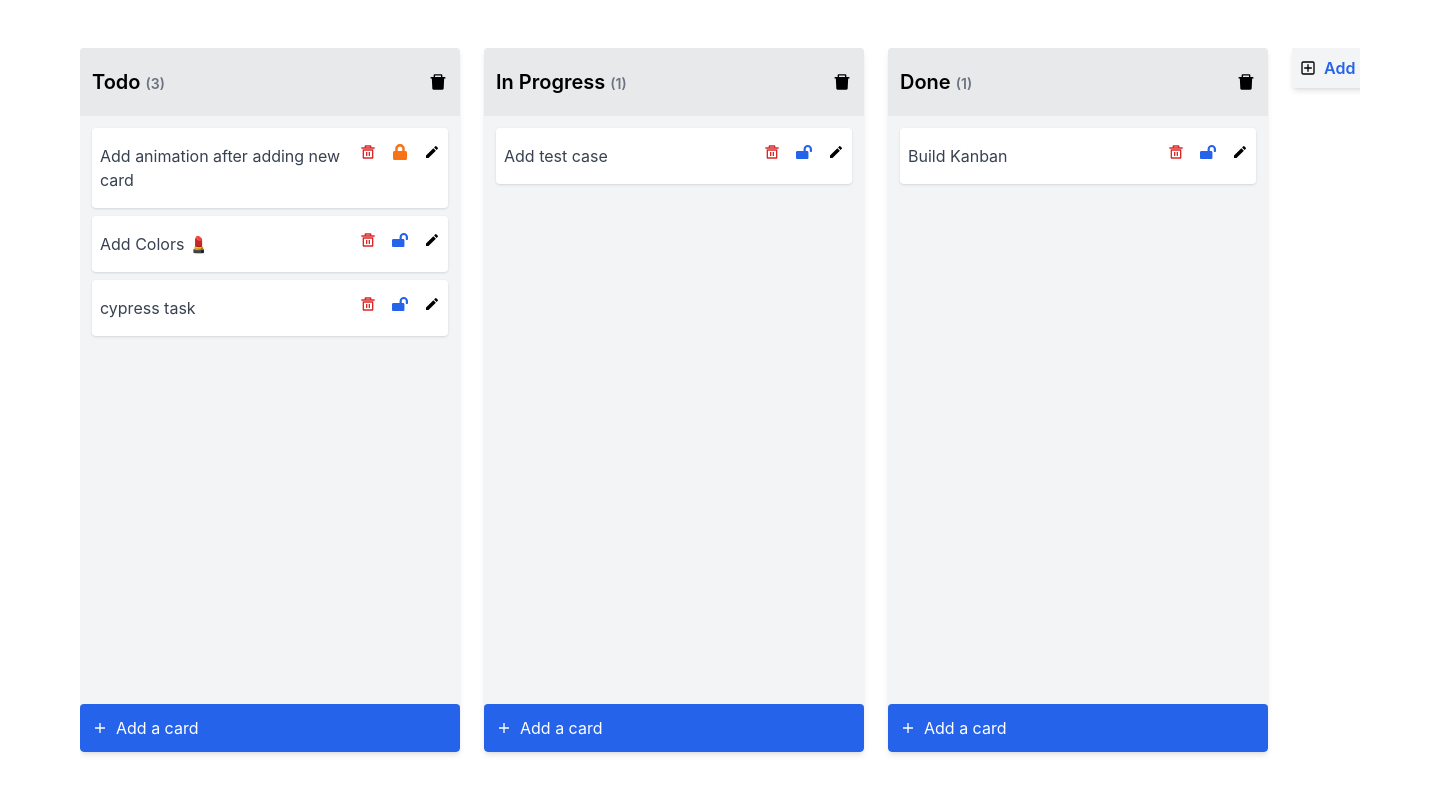
Test: Kanban › Task › should update the new task
Click the icon with test id ":nth-child(3) > [data-cy=\"task-card\"] [data-cy=\"card-rename-button\"]": point(432, 304) x1=424 y1=296 x2=440 y2=312
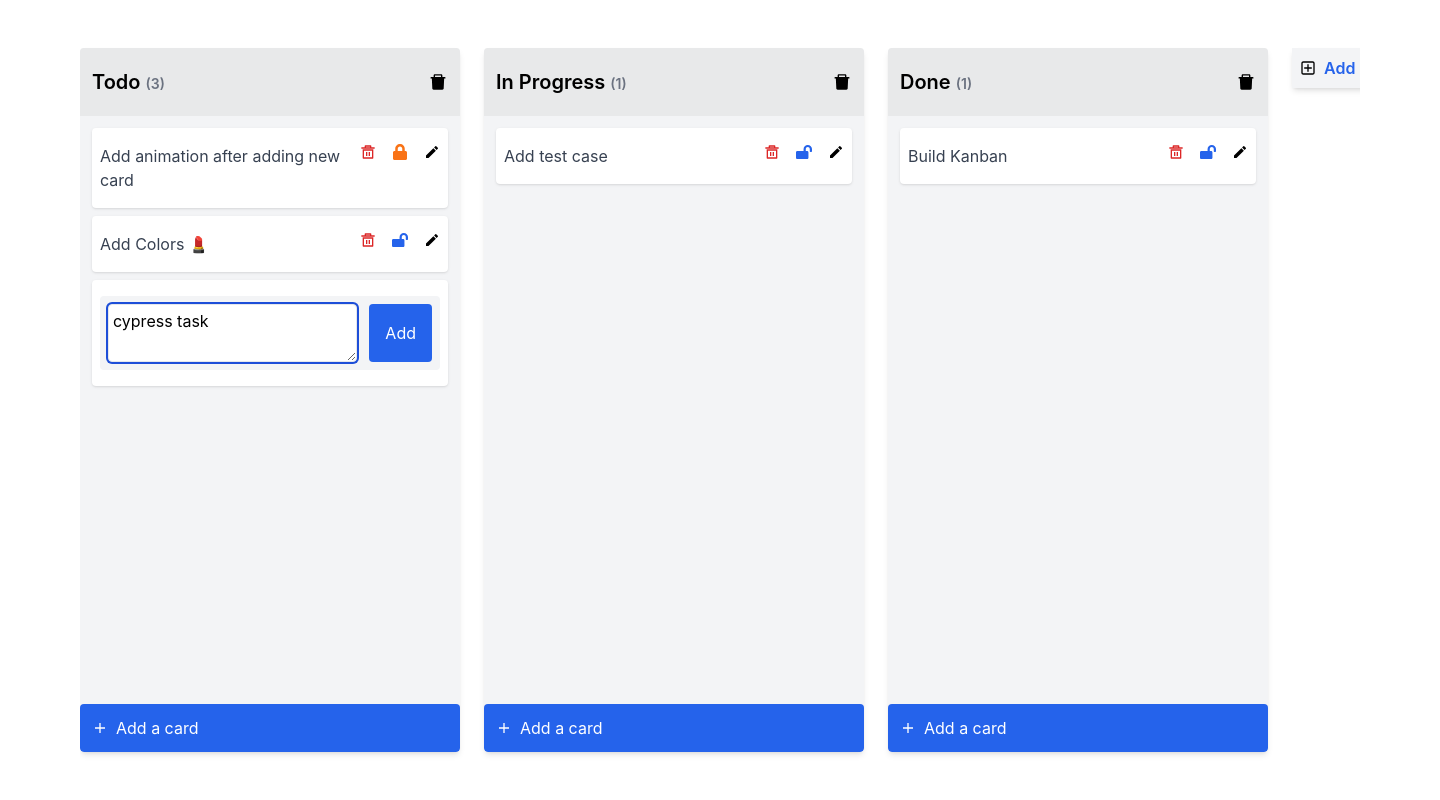
Replace the text in the text box with test id ":nth-child(3) > [data-cy=\"task-card\"] [data-cy=\"task-name-input\"]" with "have a break and drink water": point(233, 333) x1=108 y1=304 x2=357 y2=362
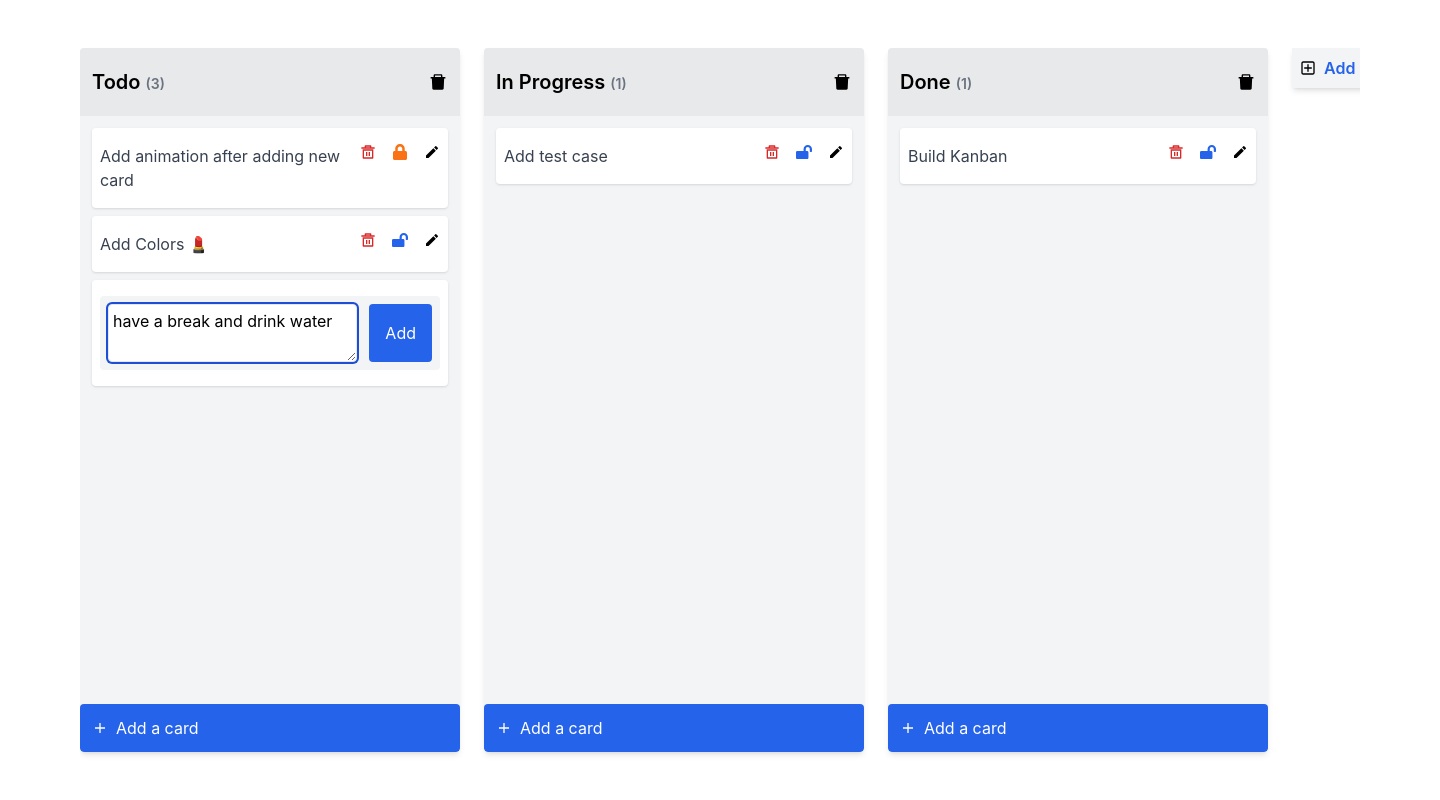
Result: the text box with test id ":nth-child(3) > [data-cy=\"task-card\"] [data-cy=\"task-name-input\"]" holds "have a break and drink water"
Press Enter in the text box with test id ":nth-child(3) > [data-cy=\"task-card\"] [data-cy=\"task-name-input\"]", box x1=108 y1=304 x2=357 y2=362
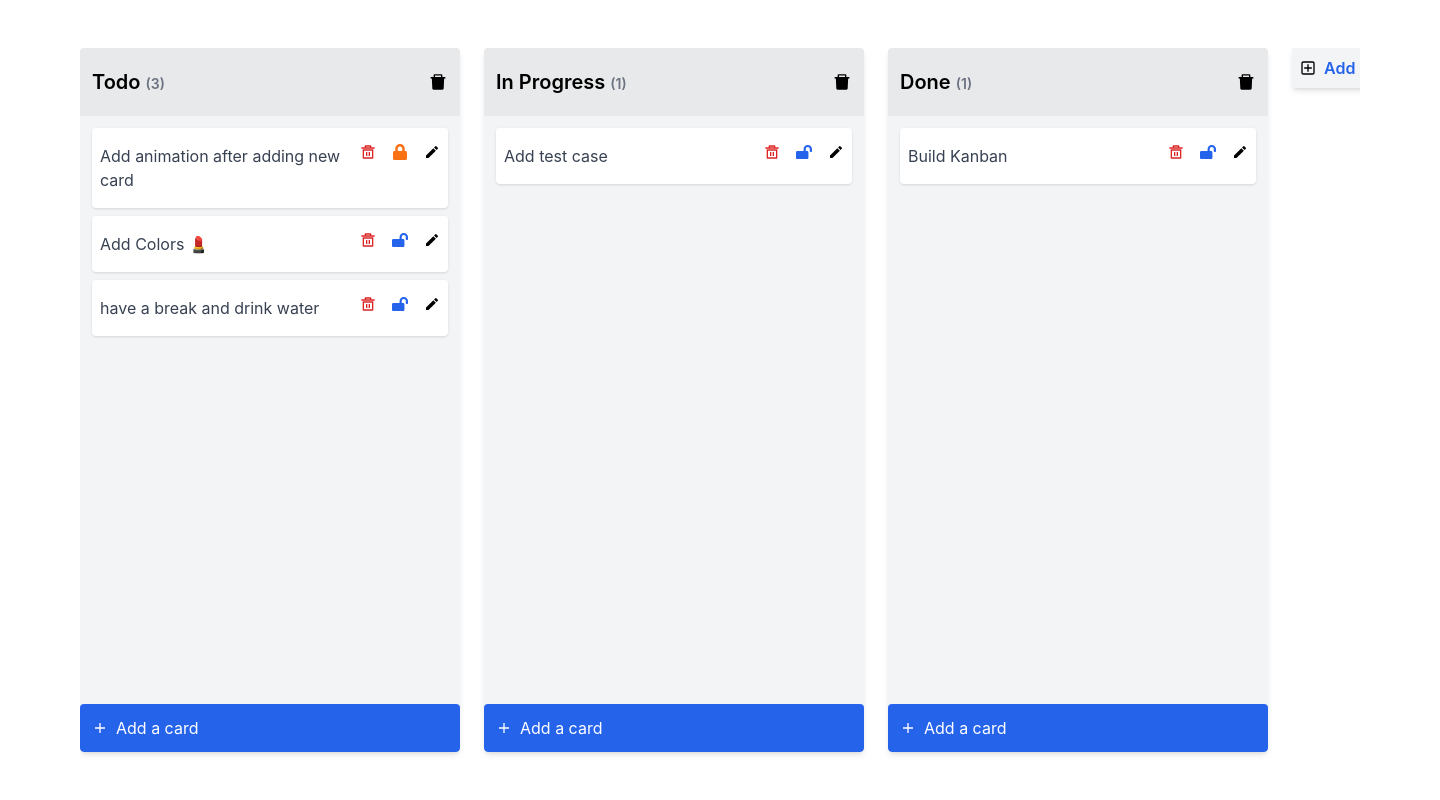
Result: the text "have a break and drink water" is shown at x1=100 y1=296 x2=319 y2=320
